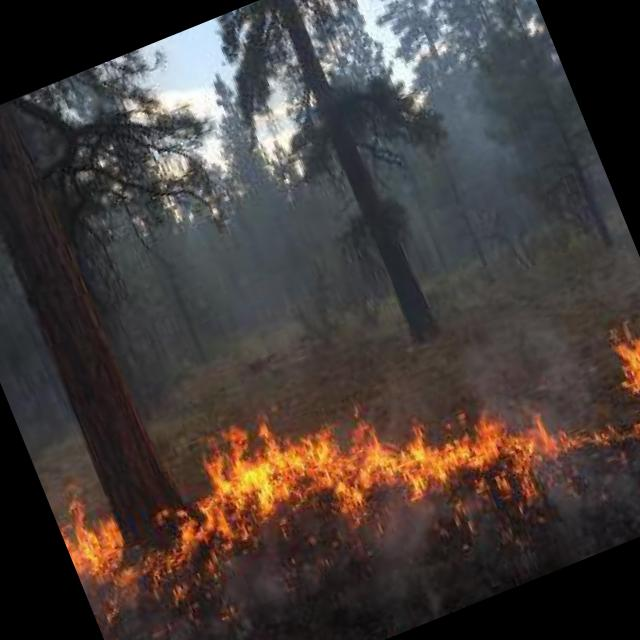fire: (126, 480, 266, 630), (186, 400, 322, 551), (288, 392, 420, 542), (498, 365, 640, 503), (393, 388, 529, 530), (579, 253, 640, 460)
smoke: (75, 170, 363, 450), (374, 0, 606, 312), (460, 282, 602, 410), (359, 312, 486, 429), (249, 518, 361, 634), (336, 505, 453, 612), (438, 496, 558, 600), (555, 118, 638, 265), (537, 460, 640, 567), (171, 591, 291, 640), (90, 582, 182, 640)
